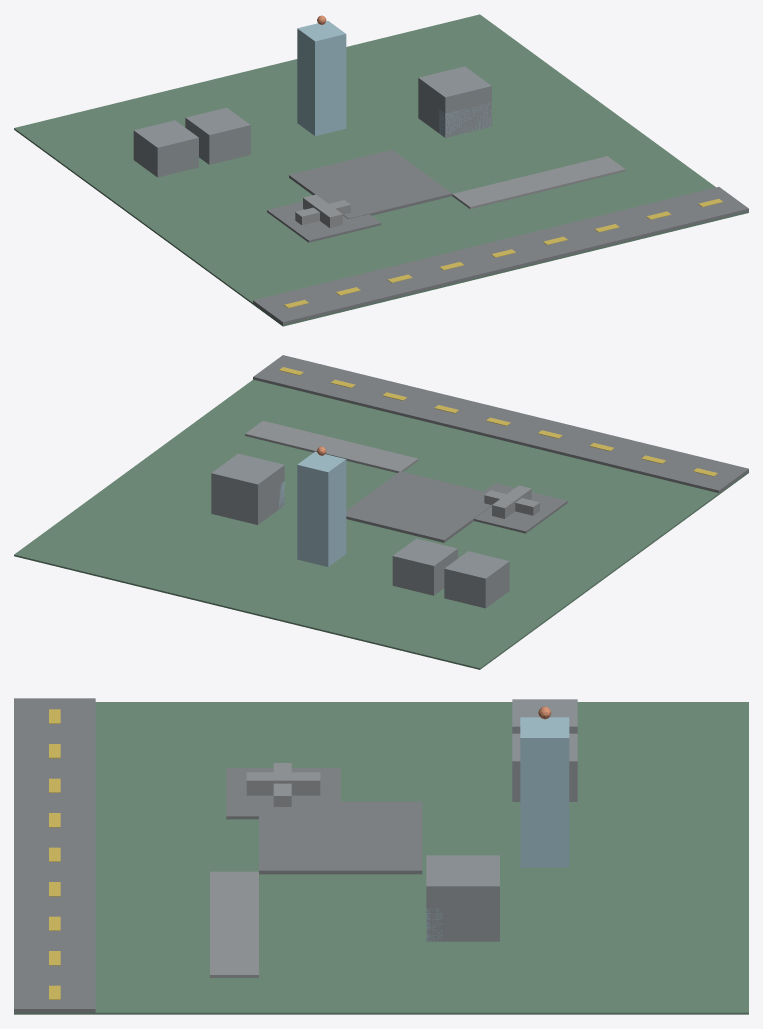
Rendered from stage_07.glb.
3 views of the same model, one above another, from view 1: azimuth 30°, elevation 25°; view 2: azimuth 150°, elevation 25°; view 3: azimuth 270°, elevation 25° (orthographic). The views are drawn at different scales.
Visible parts, largest first — view 1: geometry_0; view 2: geometry_0; view 3: geometry_0.
Boxes of the visible parts, x1=… form: geometry_0: x1=14, y1=14, x2=748, y2=326; geometry_0: x1=14, y1=355, x2=748, y2=669; geometry_0: x1=14, y1=698, x2=748, y2=1014.
Bounding box in the file's own units: 9 × 2.06 × 9.
